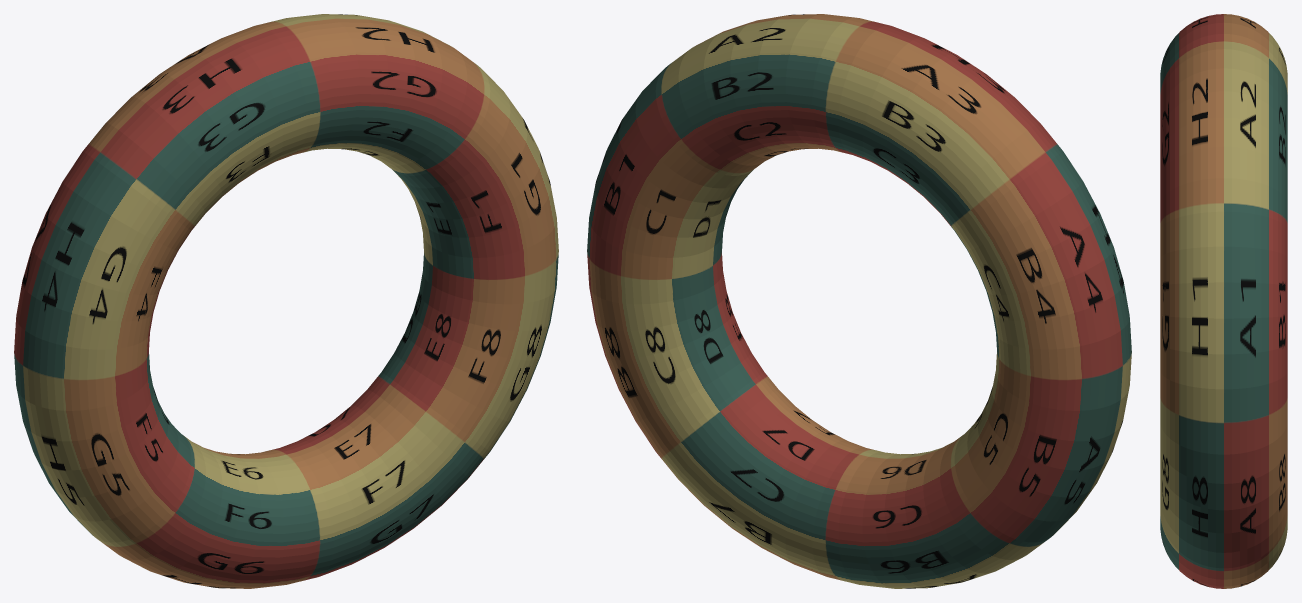
Rendered from texture_torus_R25_r21.glb.
The picture shows the model from 3 angles, left to right: view 1: azimuth 30°, elevation 25°; view 2: azimuth 150°, elevation 25°; view 3: azimuth 270°, elevation 25°; orthographic projection. The views are drawn at different scales.
Parts seen in each view (by area): view 1: world; view 2: world; view 3: world.
Boxes of the visible parts, bbox=[...] form: world: bbox=[14, 14, 558, 588]; world: bbox=[587, 14, 1131, 588]; world: bbox=[1160, 14, 1287, 588].
Size of the model in its own units: 34.27 by 34.2 by 7.59.
Materials: 1 (1 with a texture image).
